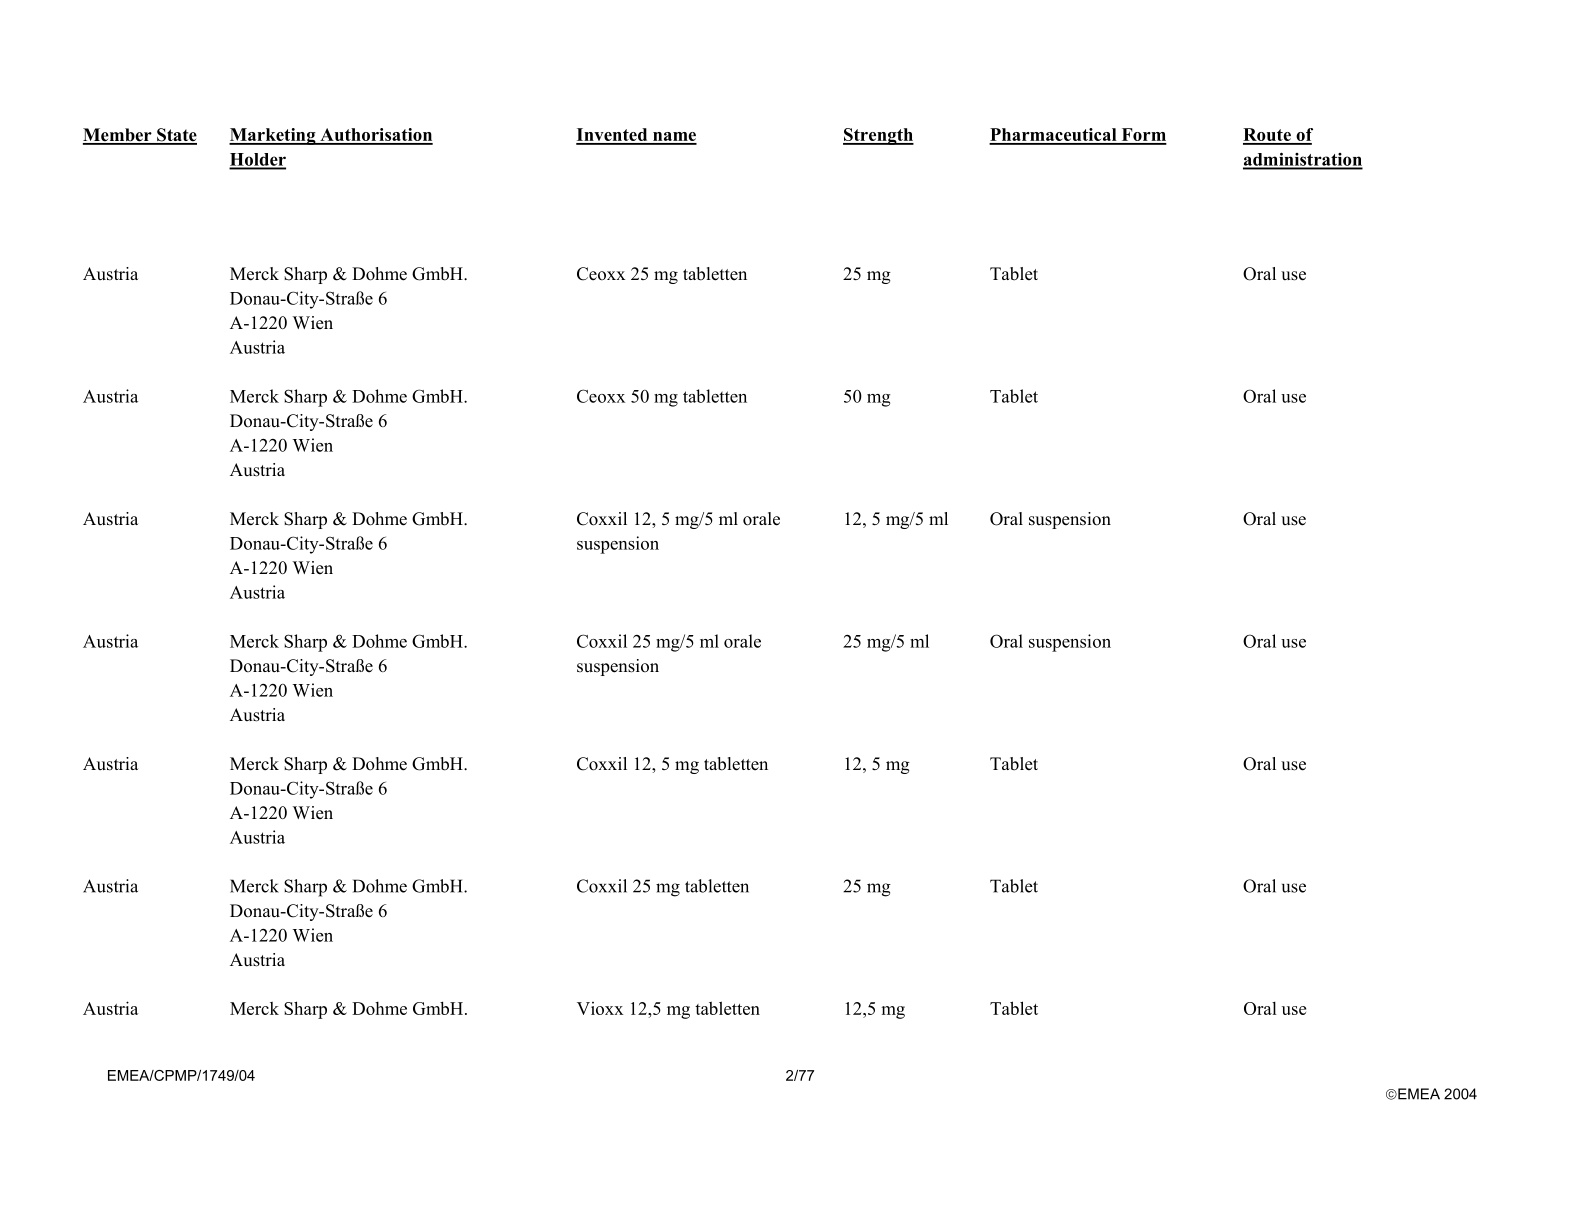nolines: (78, 126, 1365, 1020)
